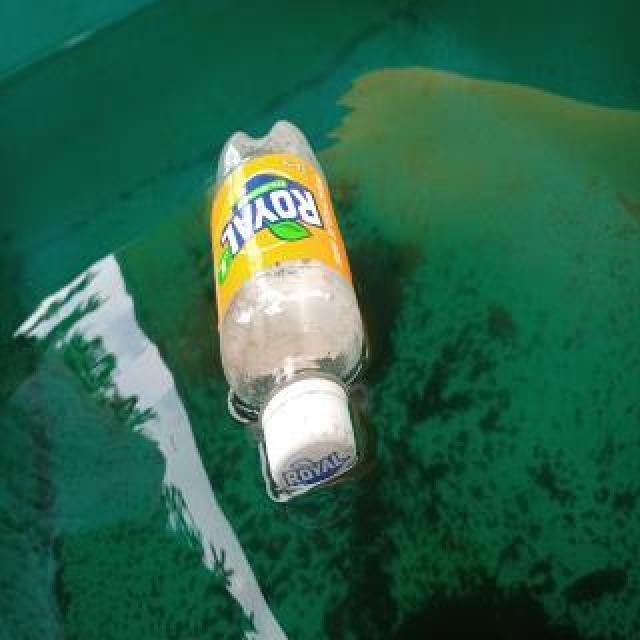bottle: (208, 116, 366, 490)
